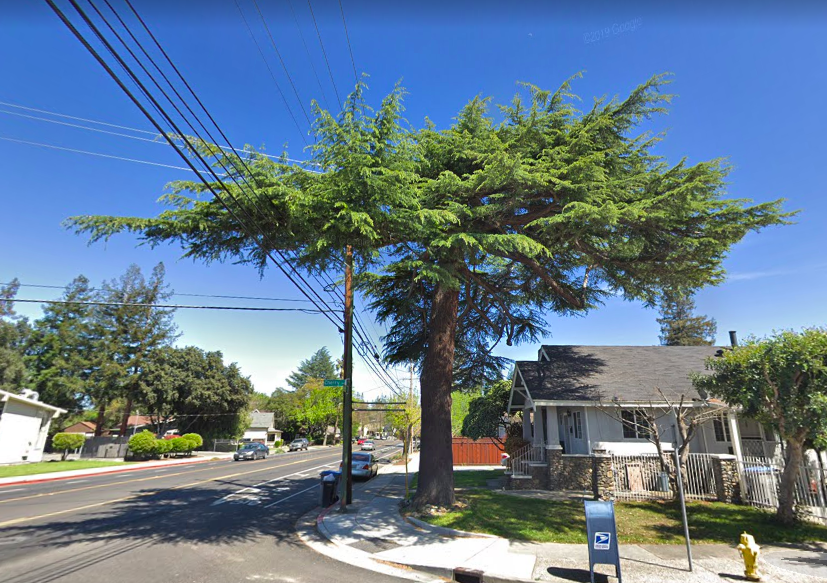tree: (60, 70, 806, 515)
